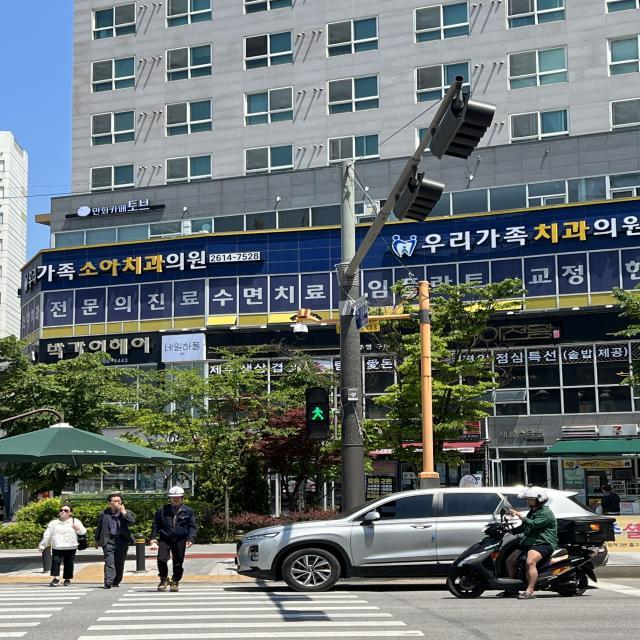crosswalk: (2, 576, 453, 640)
green-light: (304, 392, 336, 448)
